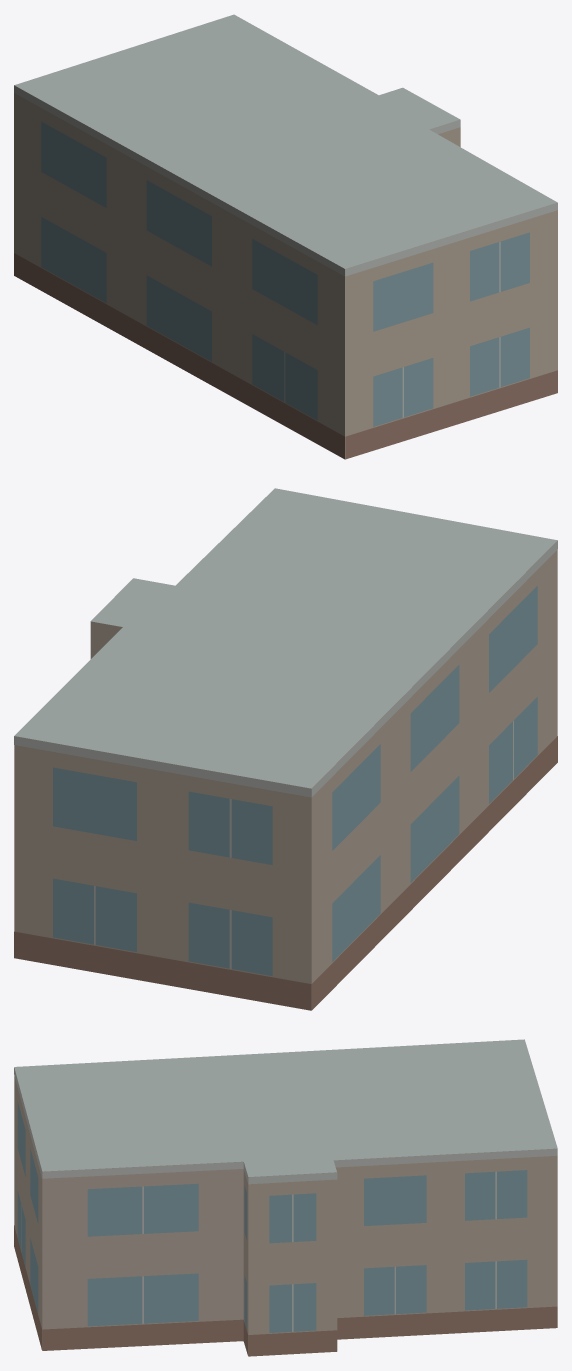
File: survey-upis-32909359.glb
3 views of the same model, one above another, from view 1: azimuth 30°, elevation 25°; view 2: azimuth 150°, elevation 25°; view 3: azimuth 270°, elevation 25° (orthographic). The views are drawn at different scales.
Visible parts, largest first — view 1: survey-upis-32909359.tmp; view 2: survey-upis-32909359.tmp; view 3: survey-upis-32909359.tmp.
Boxes of the visible parts, box(x1,y1,x2,y2) form: survey-upis-32909359.tmp: box(14, 14, 557, 459); survey-upis-32909359.tmp: box(14, 488, 557, 1010); survey-upis-32909359.tmp: box(14, 1039, 557, 1356).
Size of the model in its own units: 10.05 by 6.1 by 16.77.
